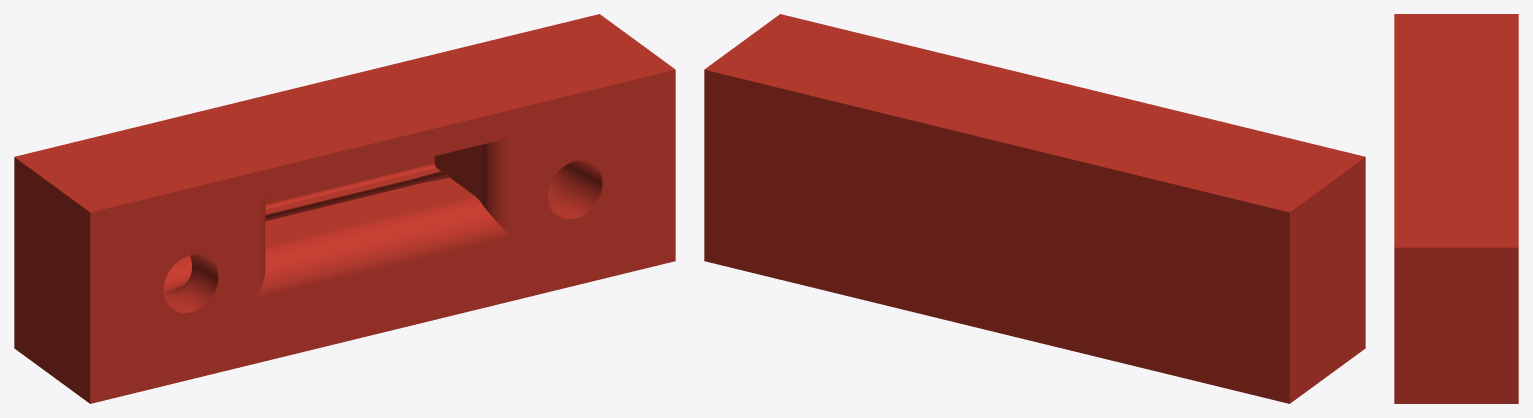
The model's file is AnyBio_SimpleChip.obj.
The picture shows the model from 3 angles, left to right: view 1: azimuth 30°, elevation 25°; view 2: azimuth 150°, elevation 25°; view 3: azimuth 270°, elevation 25°; orthographic projection. The views are drawn at different scales.
Parts seen in each view (by area): view 1: Gel_to_print; view 2: Gel_to_print; view 3: Gel_to_print.
Boxes of the visible parts, x1=… form: Gel_to_print: x1=14, y1=14, x2=675, y2=403; Gel_to_print: x1=704, y1=14, x2=1365, y2=403; Gel_to_print: x1=1394, y1=14, x2=1518, y2=403.
Size of the model in its own units: 16 by 5 by 3.6.
